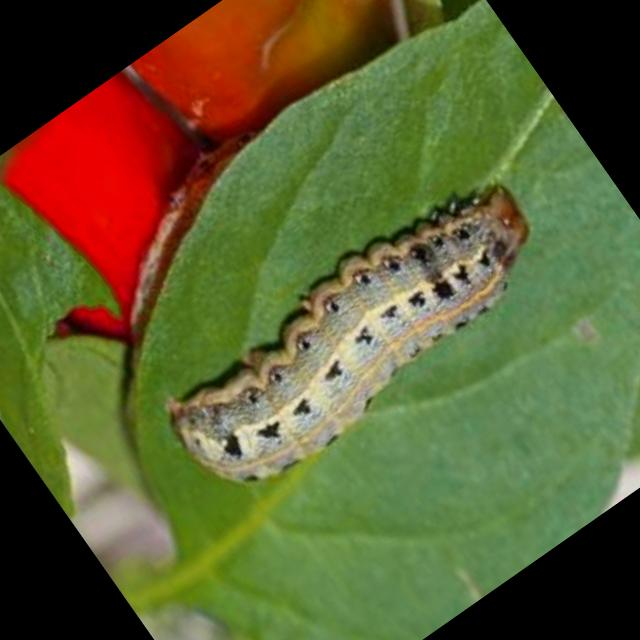Tobacco cutworm: (76, 80, 616, 576)
